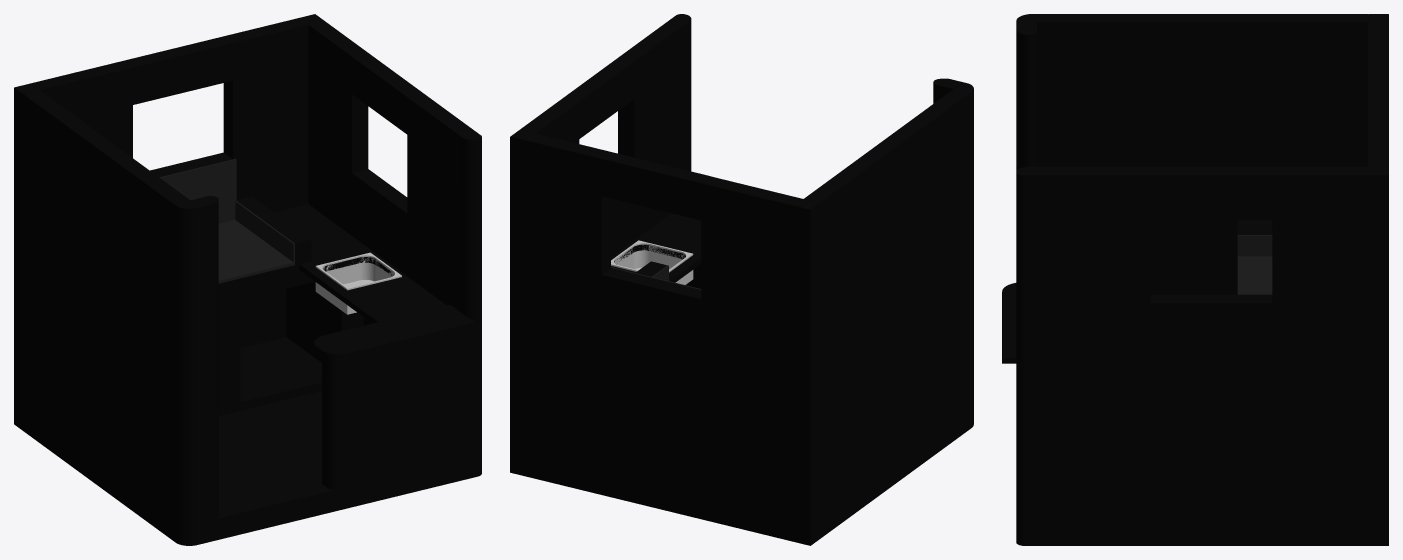
Rendered from barbacoa-v13-mwrnfo2j-texturas.glb.
3 views of the same model, side by side, from view 1: azimuth 30°, elevation 25°; view 2: azimuth 150°, elevation 25°; view 3: azimuth 270°, elevation 25° (orthographic). The views are drawn at different scales.
Visible parts, largest first — view 1: Body2, Body3, Body7, Body5, Body6, Body10, Body11, Body9, Body12; view 2: Body2, Body7, Body11; view 3: Body2, Body6, Body13.
Boxes of the visible parts, box(x1,y1,x2,y2) form: Body2: box(14, 14, 481, 545); Body3: box(218, 281, 363, 415); Body7: box(299, 247, 446, 323); Body5: box(218, 204, 367, 304); Body6: box(218, 220, 294, 283); Body10: box(159, 158, 236, 223); Body11: box(315, 252, 401, 314); Body9: box(236, 196, 311, 264); Body12: box(235, 201, 294, 262); Body2: box(510, 14, 973, 545); Body7: box(611, 213, 701, 282); Body11: box(611, 240, 693, 284); Body2: box(1002, 14, 1388, 545); Body6: box(1237, 256, 1272, 294); Body13: box(1237, 235, 1272, 256).
Size of the model in its own units: 2.2 by 2.35 by 2.23.
Materials: 4 (2 with a texture image).
